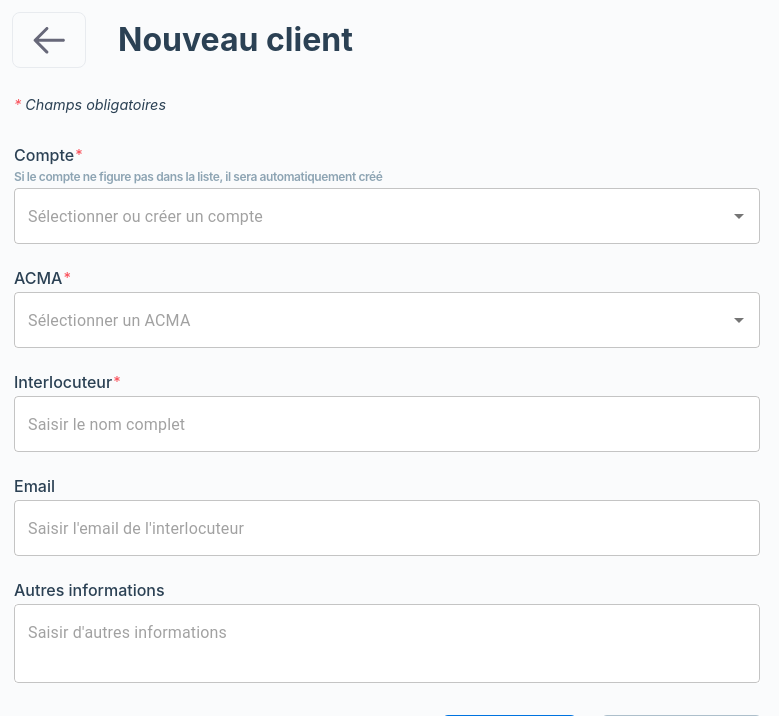
it: the client creation page › should display two ACMAs inside the combobox, selecting one displays them inside the textbox
The width and height of the screenshot is (779, 716).
Click the dropdown labelled "ACMA" at (372, 320), box [23, 301, 721, 339]
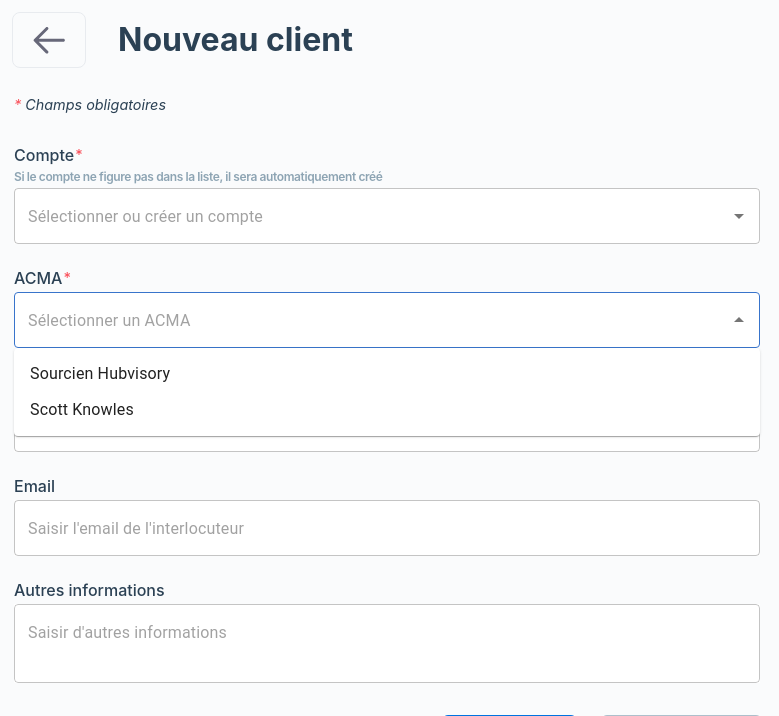
Now the option "Sourcien Hubvisory" is shown
Now the option "Scott Knowles" is shown, box [30, 400, 134, 419]
Click the option "Sourcien Hubvisory" at (100, 374), box [30, 364, 170, 383]
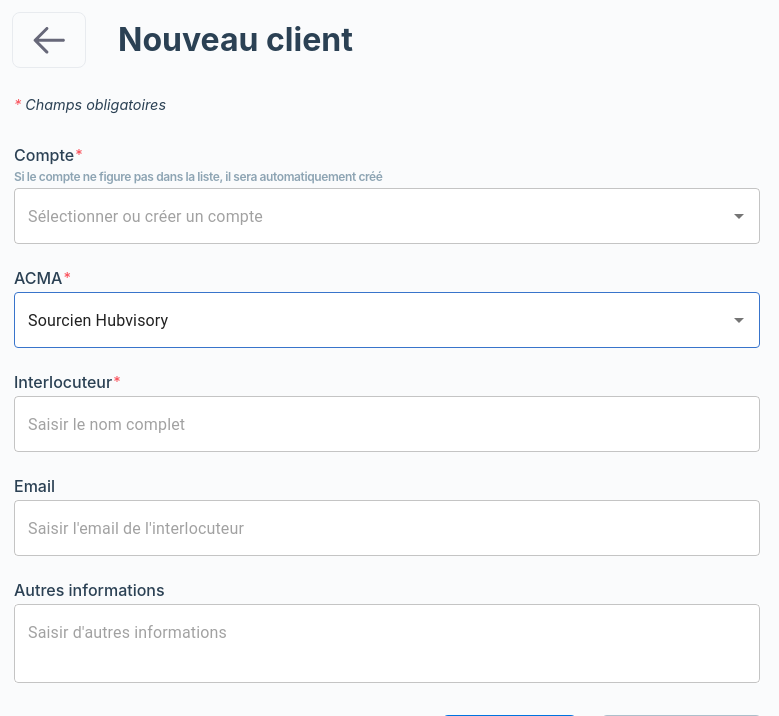
Now the dropdown showing "Sourcien Hubvisory" is shown, box [23, 301, 721, 339]
